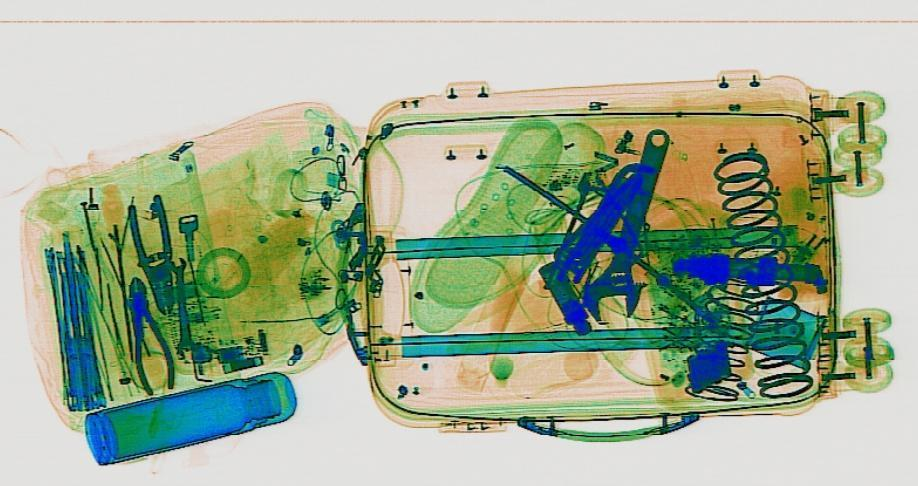Pliers: (121, 193, 184, 314), (116, 276, 179, 394)
Wrench: (574, 125, 688, 322), (162, 256, 197, 350)
